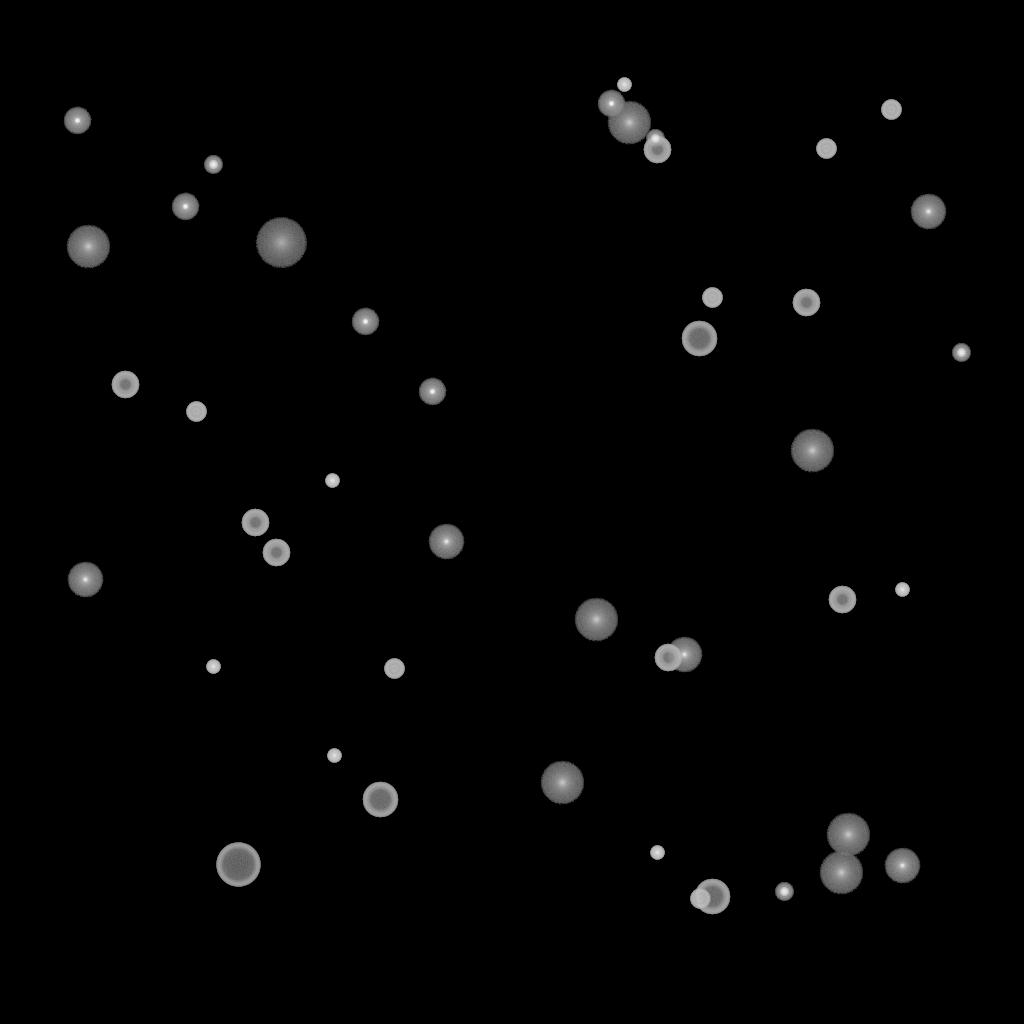depth:-10: (597, 90, 625, 118), (418, 378, 446, 406), (171, 193, 199, 221), (63, 107, 91, 135), (351, 308, 379, 336)
depth:-20: (204, 156, 222, 174), (646, 130, 664, 148), (775, 883, 793, 901), (952, 344, 970, 362)
depth:-30: (206, 660, 220, 674), (617, 78, 631, 92), (325, 474, 339, 488), (895, 583, 909, 597), (650, 846, 664, 860), (327, 749, 341, 763)
depth:-40: (690, 889, 710, 909), (702, 288, 722, 308), (816, 139, 836, 159), (384, 659, 404, 679), (881, 100, 901, 120), (186, 402, 206, 422)
depth:-50: (262, 539, 290, 567), (792, 289, 820, 317), (643, 136, 671, 164), (828, 586, 856, 614), (111, 371, 139, 399), (654, 644, 682, 672), (241, 509, 269, 537)
depth:-60: (681, 321, 717, 357), (362, 782, 398, 818), (694, 879, 730, 915)
depth:-70: (216, 843, 260, 887)
depth:0: (428, 524, 464, 560), (67, 562, 103, 598), (666, 637, 702, 673), (910, 194, 946, 230), (884, 848, 920, 884)
depth:10: (574, 598, 618, 642), (819, 851, 863, 895), (607, 101, 651, 145), (540, 761, 584, 805), (790, 429, 834, 473), (826, 813, 870, 857), (66, 225, 110, 269)
depth:20: (255, 218, 307, 268)
